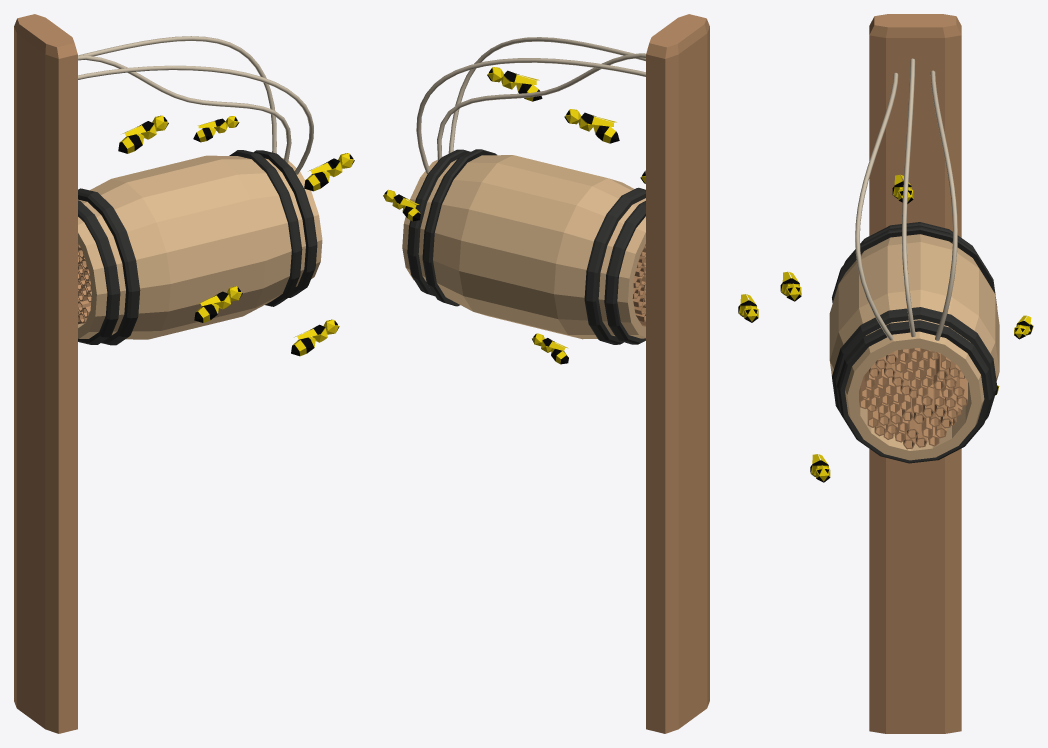
The model's file is Honey Barrel.fbx.
The picture shows the model from 3 angles, left to right: view 1: azimuth 30°, elevation 25°; view 2: azimuth 150°, elevation 25°; view 3: azimuth 270°, elevation 25°; orthographic projection. The views are drawn at different scales.
Parts seen in each view (by area): view 1: cable; view 2: cable; view 3: cable.
Boxes of the visible parts, box(x1,y1,x2,y2) form: cable: box(14, 14, 354, 733); cable: box(383, 14, 709, 733); cable: box(738, 14, 1033, 733).
Size of the model in its own units: 316 by 785 by 298.
